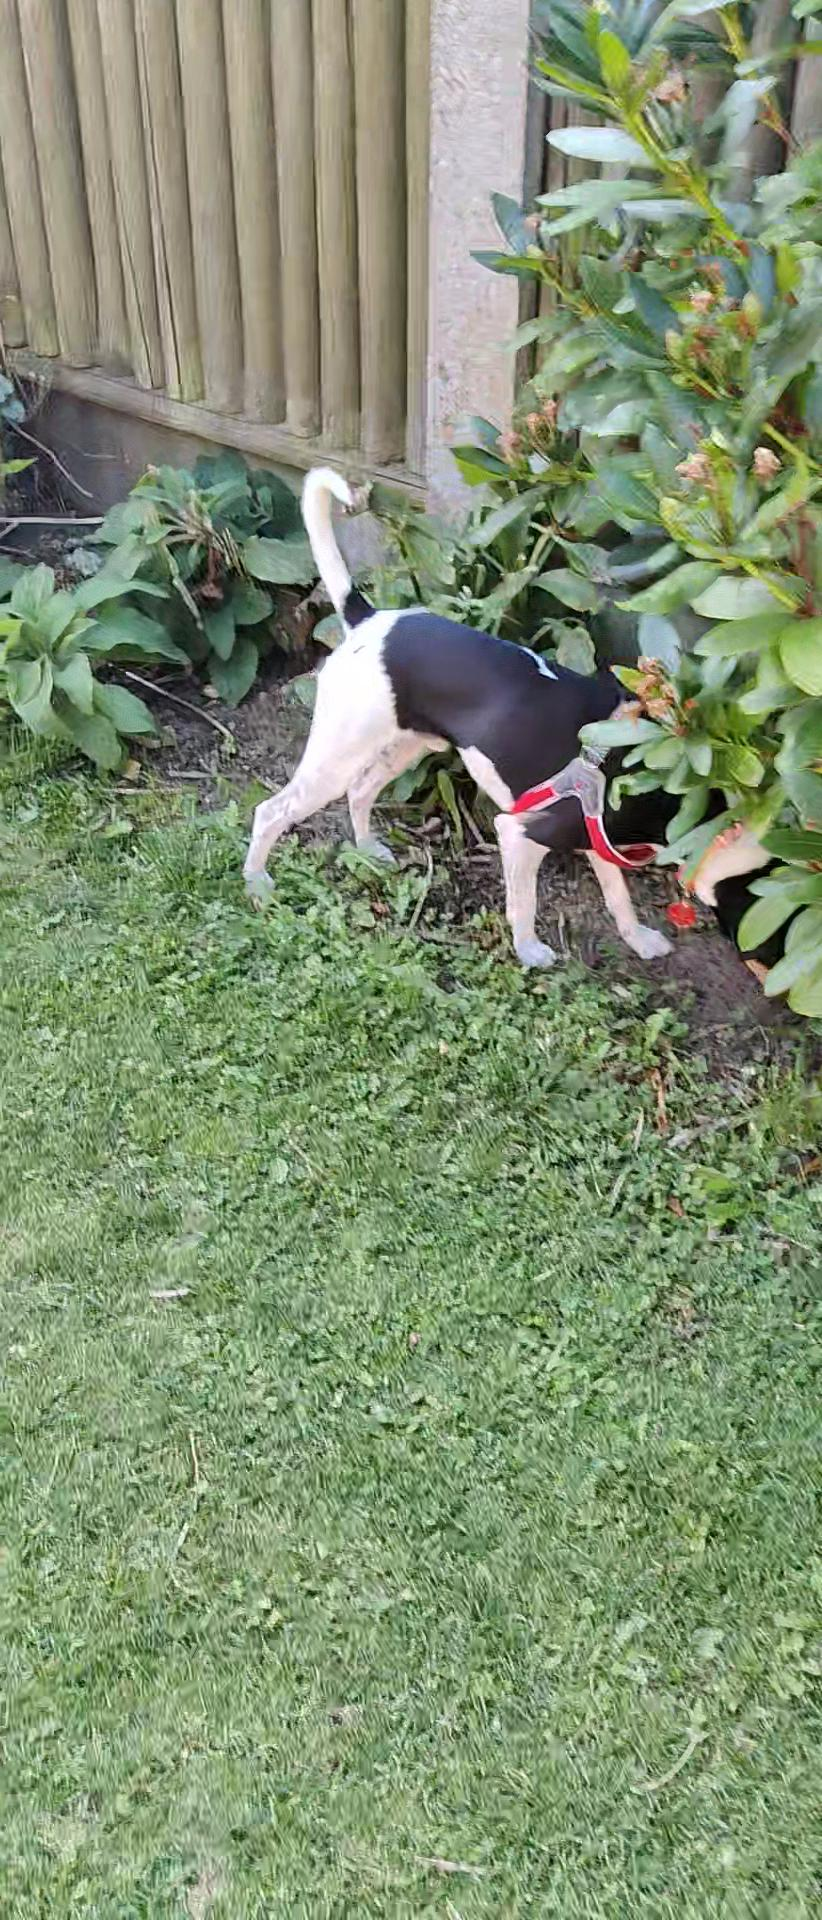Dog: (208, 444, 818, 996)
